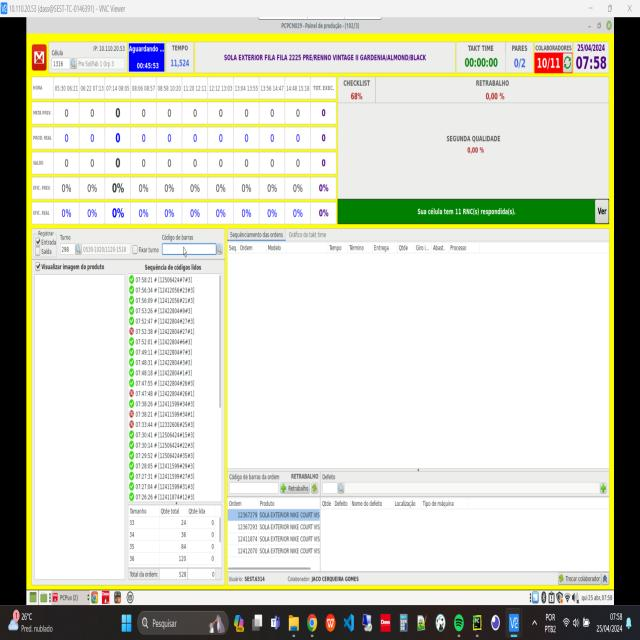takt_time: (457, 43, 505, 71)
